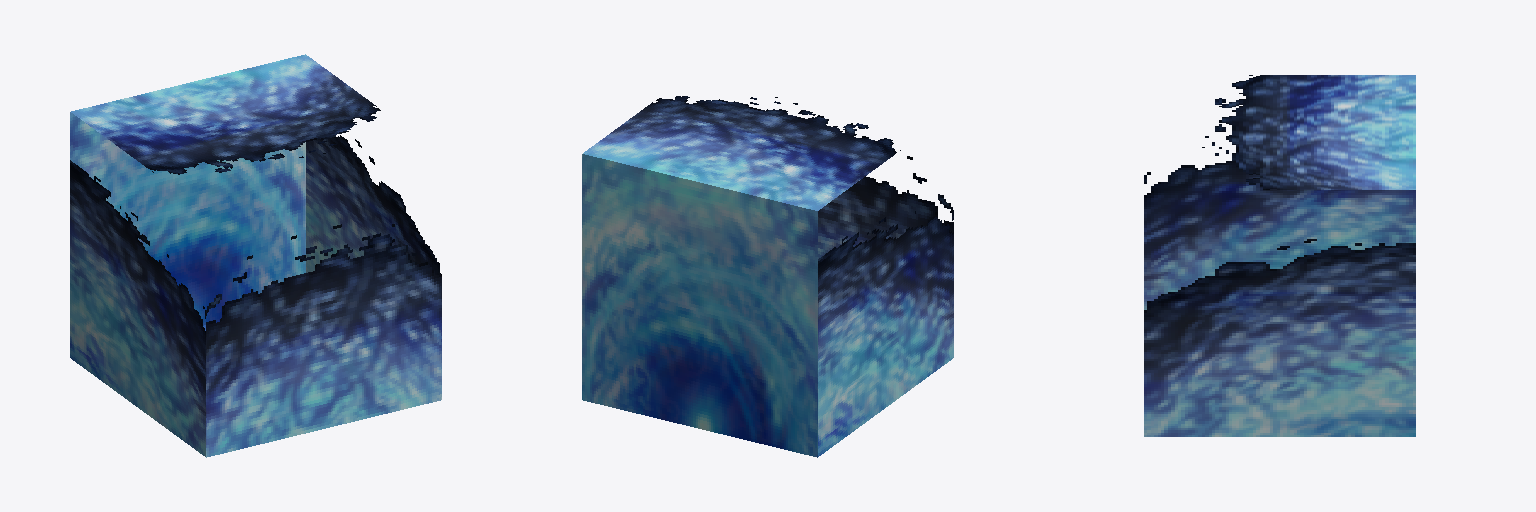
The picture shows the model from 3 angles: view 1: azimuth 30°, elevation 25°; view 2: azimuth 150°, elevation 25°; view 3: azimuth 270°, elevation 25°; orthographic projection.
Parts seen in each view (by area): view 1: Cube; view 2: Cube; view 3: Cube.
Part boxes in pixels (bbox=[...]): Cube: bbox=[70, 54, 441, 457]; Cube: bbox=[582, 96, 953, 457]; Cube: bbox=[1144, 75, 1415, 436].
Bounding box in the file's own units: 1 × 1 × 1.
Materials: 1 (1 with a texture image).